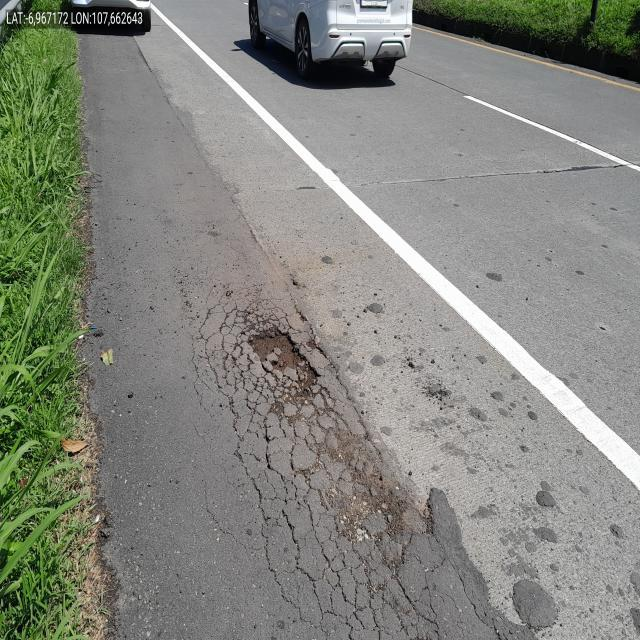Buraco: (245, 324, 323, 390)
